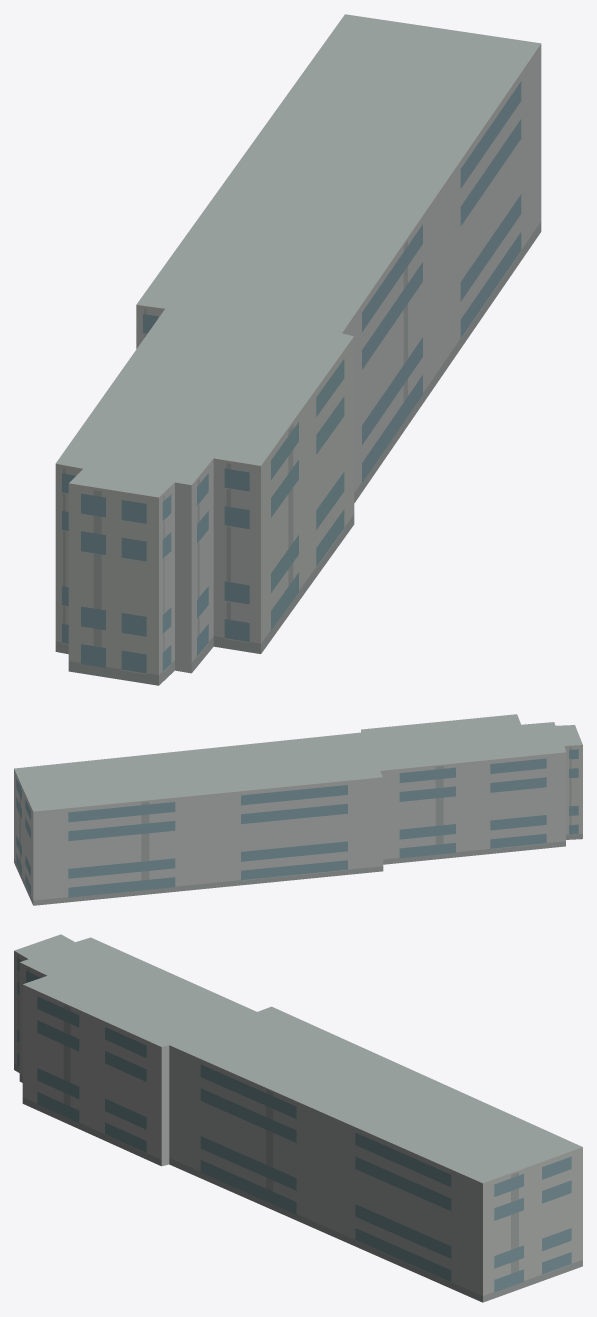
Rendered from survey-upis-32503108.glb.
3 views of the same model, one above another, from view 1: azimuth 30°, elevation 25°; view 2: azimuth 150°, elevation 25°; view 3: azimuth 270°, elevation 25° (orthographic). The views are drawn at different scales.
Visible parts, largest first — view 1: survey-upis-32503108.tmp; view 2: survey-upis-32503108.tmp; view 3: survey-upis-32503108.tmp.
Boxes of the visible parts, x1,y1,x2,y2 form: survey-upis-32503108.tmp: (55,14,541,685); survey-upis-32503108.tmp: (14,714,582,905); survey-upis-32503108.tmp: (14,934,582,1302).
Bounding box in the file's own units: 68.3 × 15.25 × 65.92.
